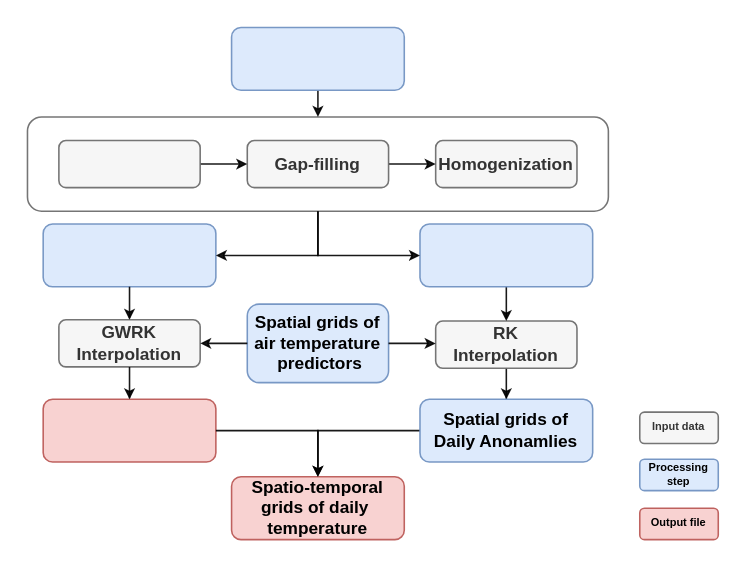
Image size: 746x568. Some labels were removed from this diagram. The shapes that lost their labels are listed below. From the top down, each one's centre as x and y in pixels, then its label:
At [317,58]: "Air temperature observations".
At [128,163]: "Quality Control".
At [129,254]: "Monthly Normals (1981-2010)".
At [505,254]: "Daily observations (1981-2010)".
At [129,430]: "Spatial grids of Monthly Normal".
